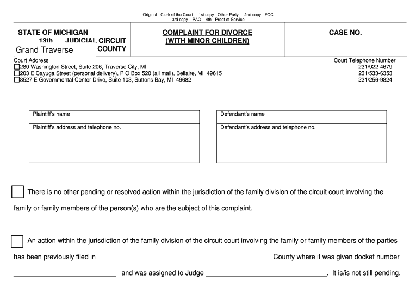checkbox: (10, 184, 26, 200), (9, 234, 24, 249), (13, 74, 20, 83), (13, 63, 20, 71), (13, 69, 20, 77)
textbox: (26, 121, 201, 164), (214, 121, 388, 164), (283, 20, 410, 58), (214, 104, 388, 125), (27, 108, 201, 128)
textline: (95, 250, 272, 262), (204, 268, 328, 279), (12, 268, 117, 278)
